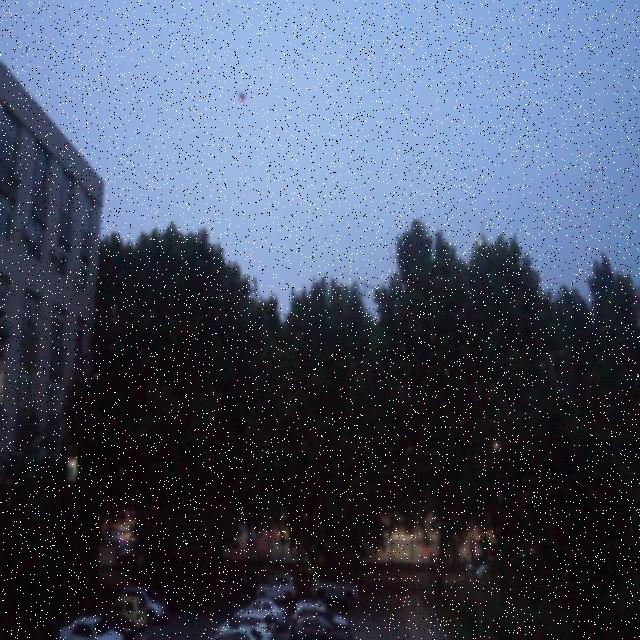UAV: (238, 92, 248, 102)
